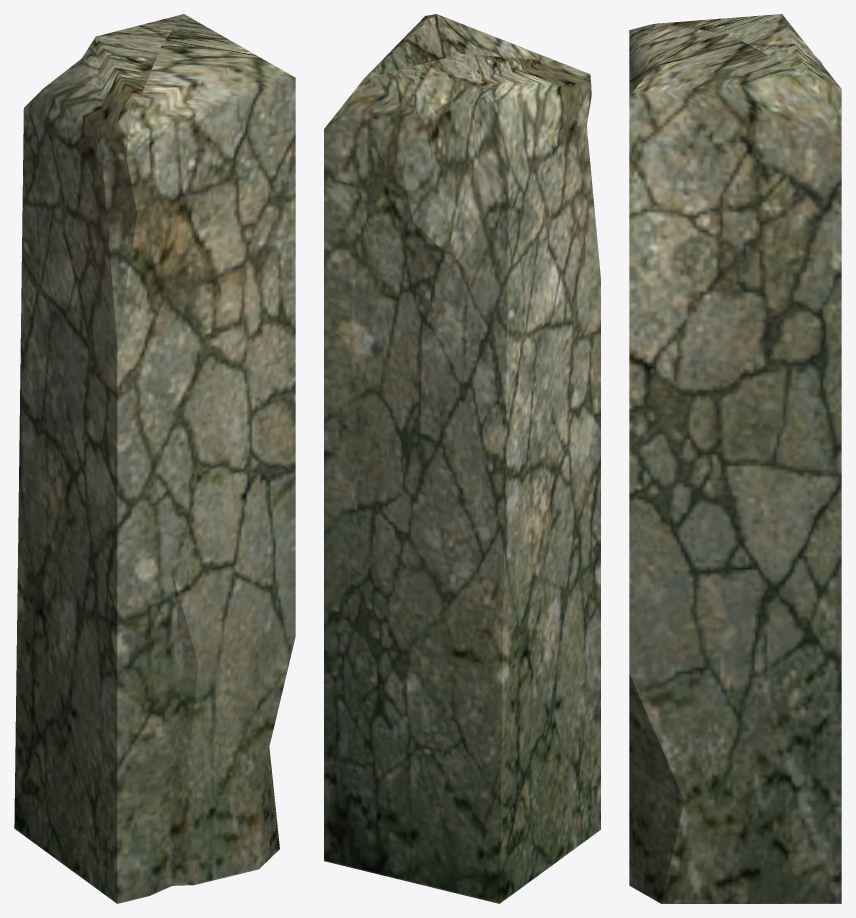
Rendered from thm_nboo_gungan_pillar_damaged_s01_l0.fbx.
The picture shows the model from 3 angles, left to right: view 1: azimuth 30°, elevation 25°; view 2: azimuth 150°, elevation 25°; view 3: azimuth 270°, elevation 25°; orthographic projection. The views are drawn at different scales.
Visible parts, largest first — view 1: mesh_node; view 2: mesh_node; view 3: mesh_node.
Part boxes in pixels (left/top/right/bottom): mesh_node: left=14, top=14, right=295, bottom=903; mesh_node: left=324, top=14, right=600, bottom=903; mesh_node: left=629, top=14, right=841, bottom=903.
Bounding box in the file's own units: 1 × 4.29 × 1.
